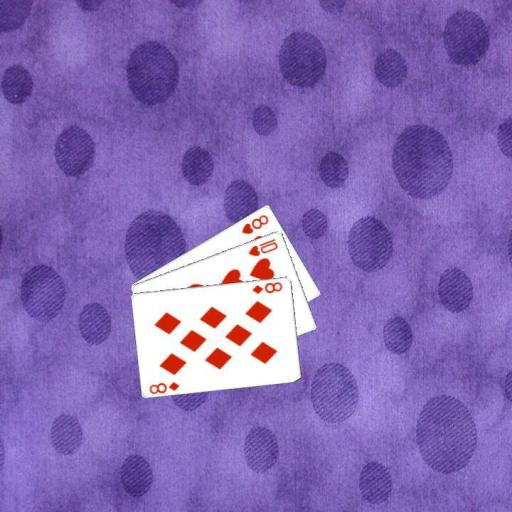10H: (246, 236, 280, 258)
8D: (147, 378, 182, 395), (249, 279, 284, 295)
8H: (238, 212, 270, 236)
